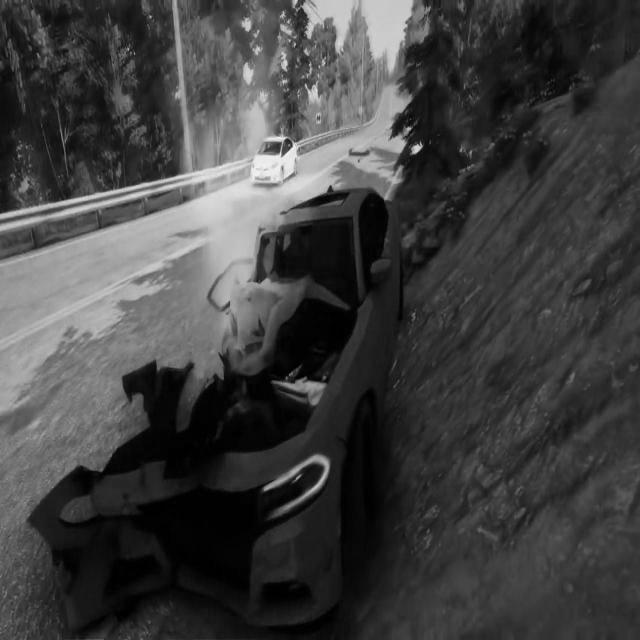accident: (23, 183, 407, 629)
vehicle: (251, 137, 299, 186)
